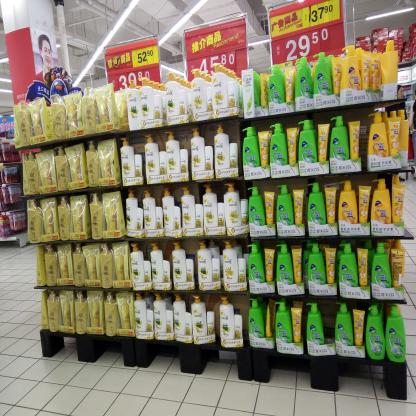empty_space: (325, 300, 334, 355)
